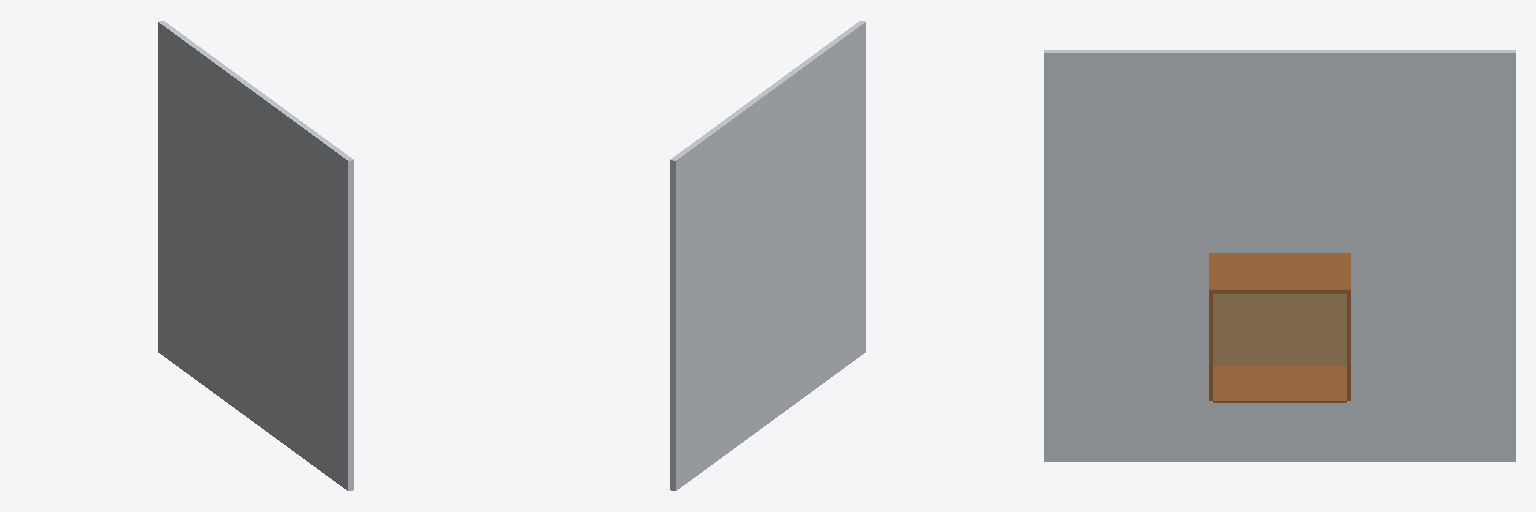
URDF robot description (open_wall_mounted_cabinet):
<?xml version='1.0' encoding='utf-8'?>
<robot name="open_wall_mounted_cabinet">
  <link name="cabinet">
    <visual name="flat_shelf">
      <origin xyz="-0.1335 0.0 0.272" rpy="0 0 0" />
      <geometry>
        <box size="0.23299999999999998 0.34 0.006000000000000005" />
      </geometry>
      <material name="cabinet">
        <color rgba=".66 .46 .28 1" />
      </material>
    </visual>
    <collision name="flat_shelf">
      <origin xyz="-0.1335 0.0 0.272" rpy="0 0 0" />
      <geometry>
        <box size="0.23299999999999998 0.34 0.006000000000000005" />
      </geometry>
    </collision>
    <visual name="cabinet_back">
      <origin xyz="-0.2441 0.0 0.1345" rpy="0 0 0" />
      <geometry>
        <box size="0.01200000000000001 0.34 0.269" />
      </geometry>
      <material name="cabinet">
        <color rgba=".84 .86 .88 1" />
      </material>
    </visual>
    <collision name="cabinet_back">
      <origin xyz="-0.244 0.0 0.1345" rpy="0 0 0" />
      <geometry>
        <box size="0.01200000000000001 0.34 0.269" />
      </geometry>
    </collision>
    <visual name="upper_back">
      <origin xyz="-0.232 0 0.425" rpy="0 0 0" />
      <geometry>
        <box size="0.012 0.364 0.3" />
      </geometry>
      <material name="upper_back_material">
        <color rgba="0.76 0.63 0.46 1" />
      </material>
    </visual>
    <collision name="upper_back">
      <origin xyz="-0.232 0 0.425" rpy="0 0 0" />
      <geometry>
        <box size="0.012 0.364 0.3" />
      </geometry>
    </collision>
    <visual name="left_side">
      <origin xyz="-0.1335 -0.176 0.425" rpy="0 0 0" />
      <geometry>
        <box size="0.233 0.012 0.3" />
      </geometry>
      <material name="left_side_material">
        <color rgba="0.66 0.46 0.28 1" />
      </material>
    </visual>
    <collision name="left_side">
      <origin xyz="-0.1335 -0.176 0.425" rpy="0 0 0" />
      <geometry>
        <box size="0.233 0.012 0.3" />
      </geometry>
    </collision>
    <visual name="right_side">
      <origin xyz="-0.1335 0.176 0.425" rpy="0 0 0" />
      <geometry>
        <box size="0.233 0.012 0.3" />
      </geometry>
      <material name="right_side_material">
        <color rgba="0.66 0.46 0.28 1" />
      </material>
    </visual>
    <collision name="right_side">
      <origin xyz="-0.1335 0.176 0.425" rpy="0 0 0" />
      <geometry>
        <box size="0.233 0.012 0.3" />
      </geometry>
    </collision>
    <visual name="top">
      <origin xyz="-0.1335 0 0.581" rpy="0 0 0" />
      <geometry>
        <box size="0.233 0.364 0.012" />
      </geometry>
      <material name="top_material">
        <color rgba="0.66 0.46 0.28 1" />
      </material>
    </visual>
    <collision name="top">
      <origin xyz="-0.1335 0 0.581" rpy="0 0 0" />
      <geometry>
        <box size="0.233 0.364 0.012" />
      </geometry>
    </collision>
    <visual name="mounting_wall">
      <origin xyz="-0.248 0 0.575" rpy="0 0 0" />
      <geometry>
        <box size="0.02 1.2 1.15" />
      </geometry>
      <material name="mounting_wall_material">
        <color rgba="0.84 0.86 0.88 1" />
      </material>
    </visual>
    <collision name="mounting_wall">
      <origin xyz="-0.248 0 0.575" rpy="0 0 0" />
      <geometry>
        <box size="0.02 1.2 1.15" />
      </geometry>
    </collision>
  </link>
</robot>

--- What the picture shows (computed from the rendered views, not written in the file) ---
Views: 3 orthographic renders of the robot side by side, from view 1: azimuth 30°, elevation 25°; view 2: azimuth 150°, elevation 25°; view 3: azimuth 270°, elevation 25°.
Model open_wall_mounted_cabinet with 1 links and 0 joints (none), rooted at cabinet, posed all joints at 0.
Links seen in each view (by area): view 1: cabinet; view 2: cabinet; view 3: cabinet.
Link boxes in pixels (x1,y1,x2,y2): cabinet: [158, 21, 353, 490]; cabinet: [670, 21, 865, 490]; cabinet: [1044, 50, 1515, 461].
Size in the robot's own frame: 0.241 by 1.2 by 1.15 metres.
Geometry: primitives only (box / cylinder / sphere), no mesh files.
